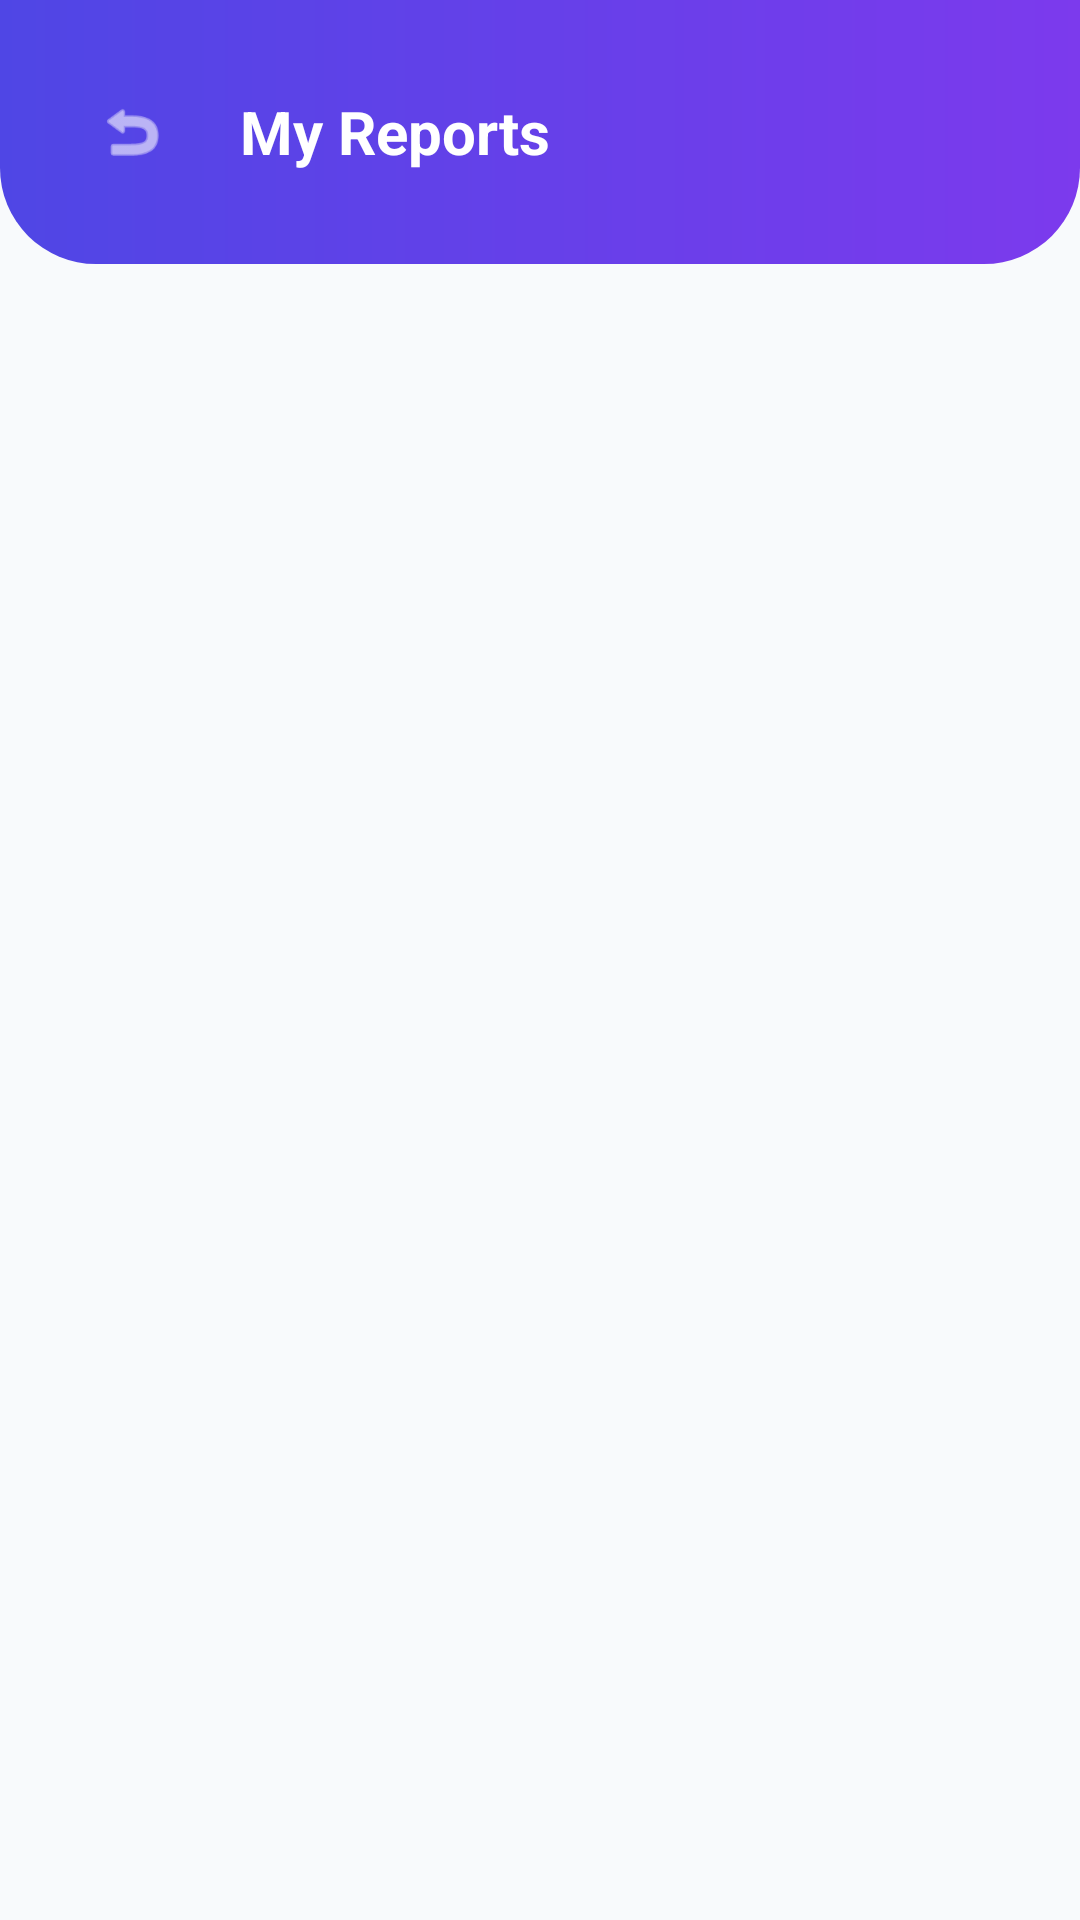

Where to tap for icons on this 1080px x 1920px app screen, as (x,y):
Cancel: (133,132)
